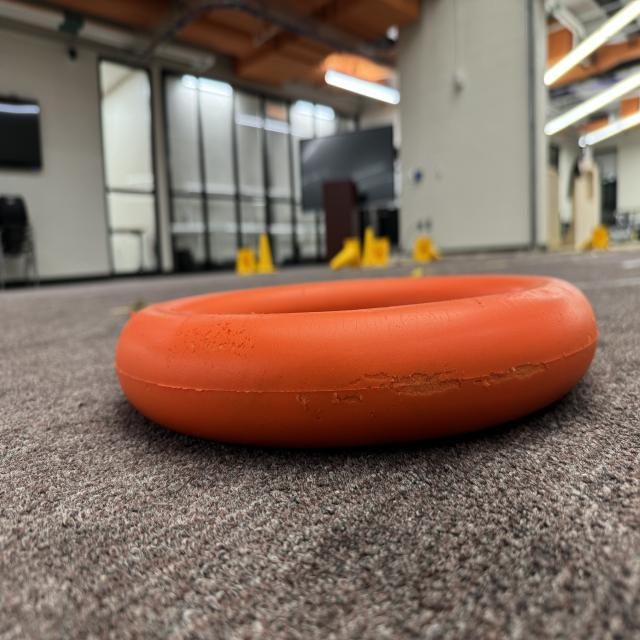note: (103, 268, 614, 463)
